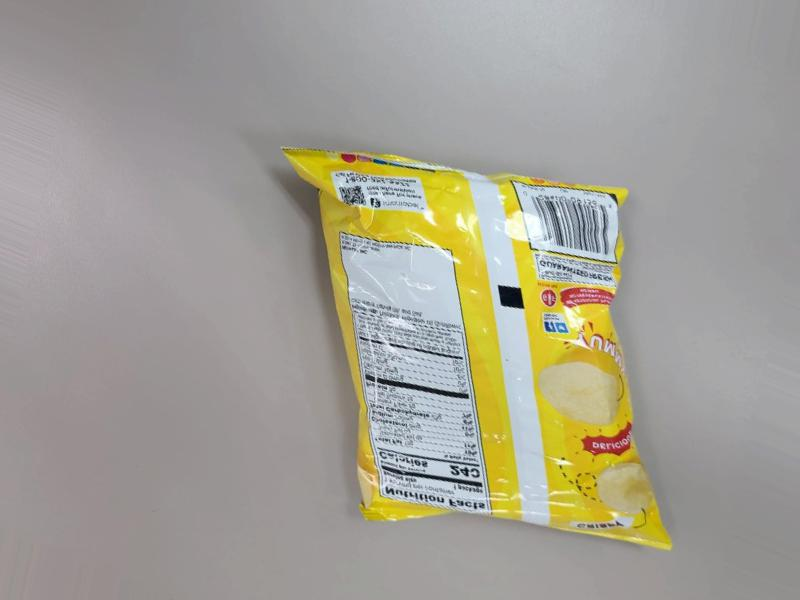lays: (325, 159, 679, 600)
